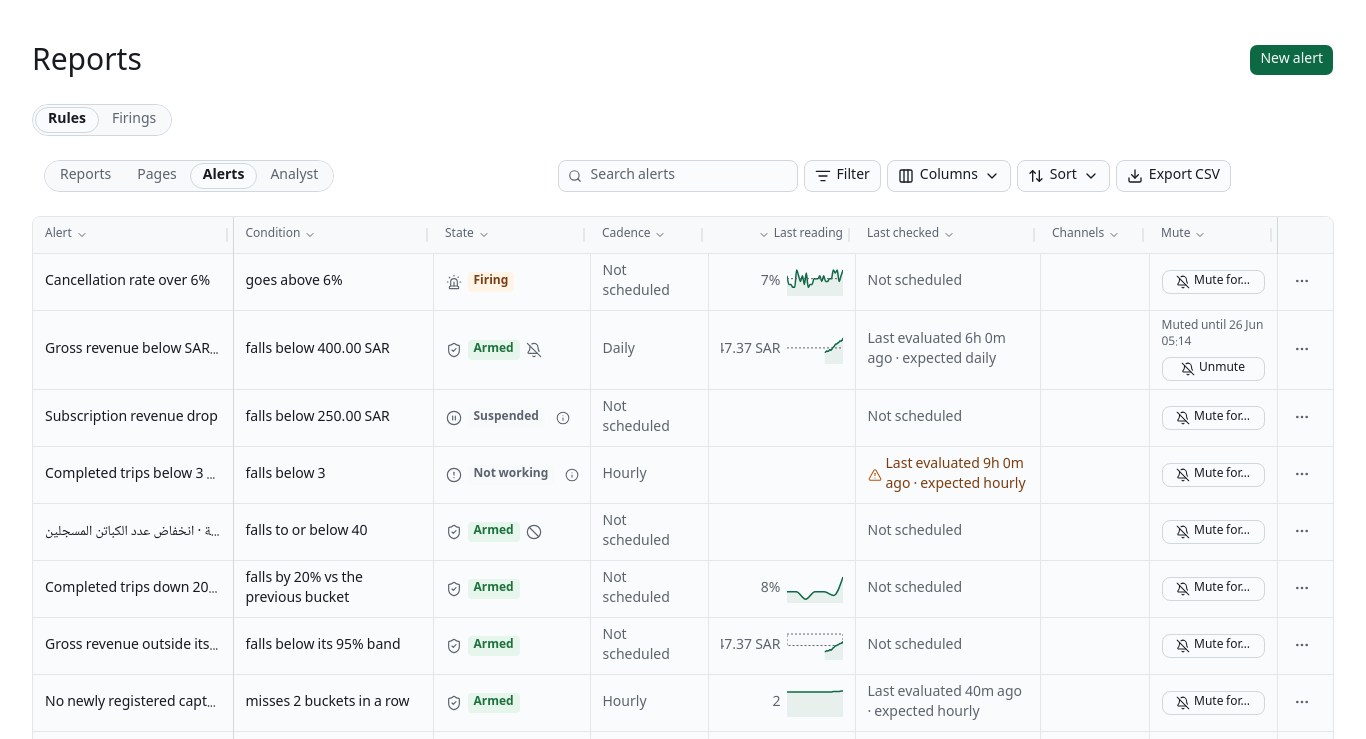
Scenario: the row overflow carries the row’s actions › names every alert action inside the menu
Expected: the row that starts with "Cancellation rate over 6%" is shown, [33, 254, 1333, 310]
Click the button named "More actions".
click(1302, 280)  # box [1290, 268, 1314, 292]
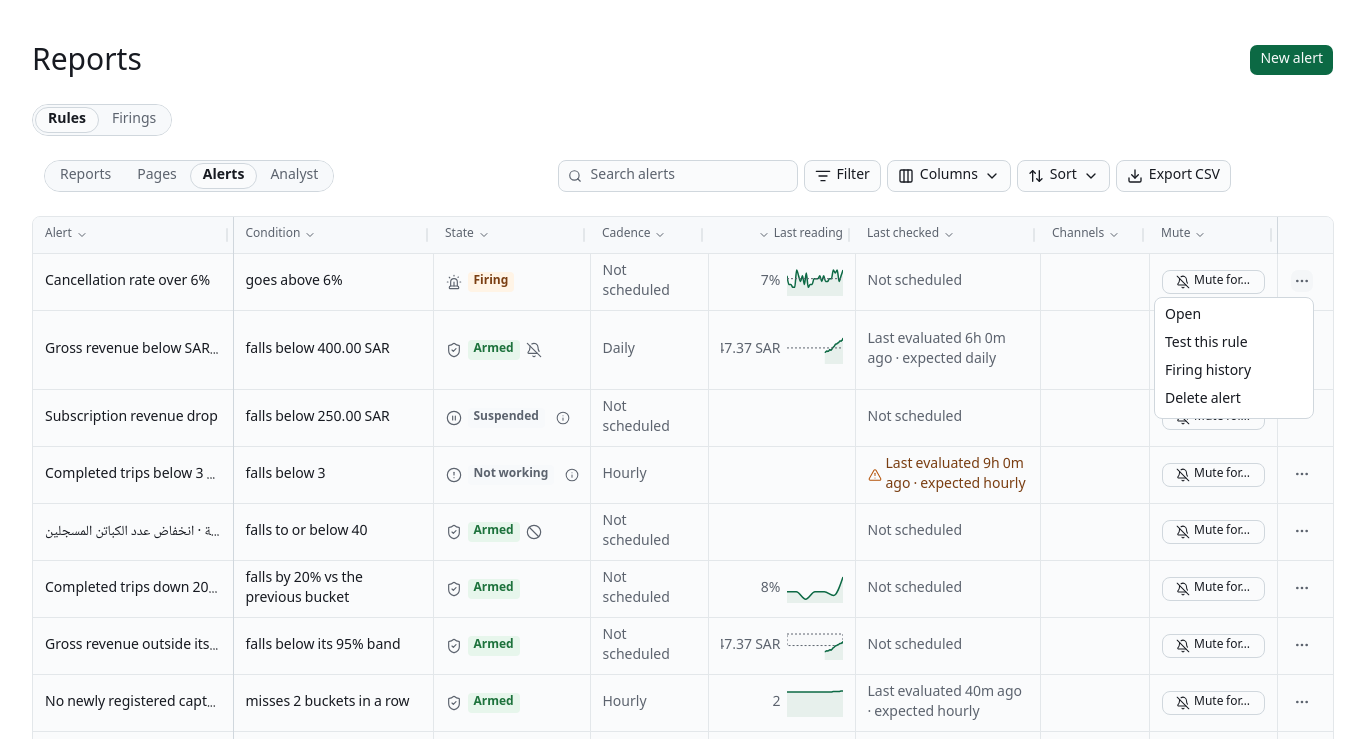
Now the menu item "Open" is shown, box [1165, 304, 1201, 328]
Now the menu item "Test this rule" is shown, box [1165, 332, 1248, 356]
Now the menu item "Firing history" is shown, box [1165, 360, 1251, 384]
